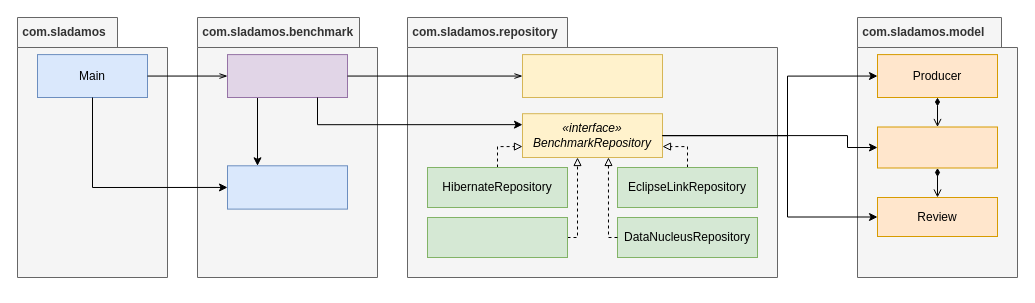
Some shapes in this 1035 by 303 pixel diagram are drawn without their labels. Each missing label, with the centre of its shape:
Benchmark1..N: (287,76)
CayenneRepository: (497,237)
Config: (287,187)
Product: (937,147)
RepositoryFactory: (592,76)
